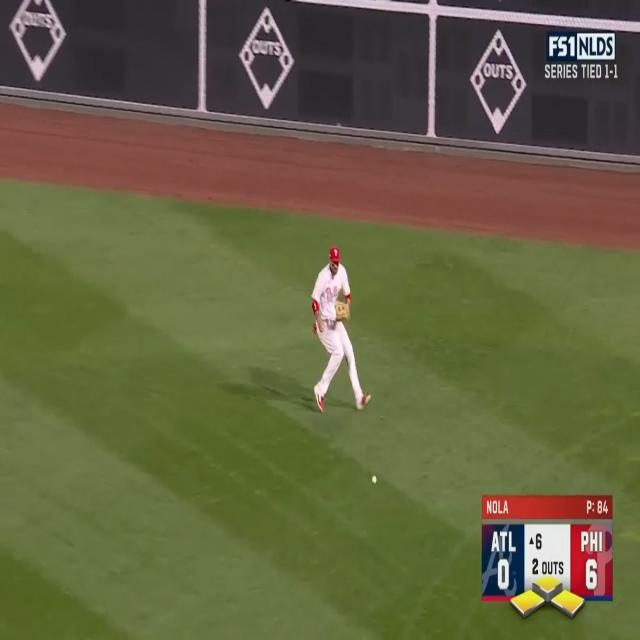baseball: (371, 474, 378, 486)
